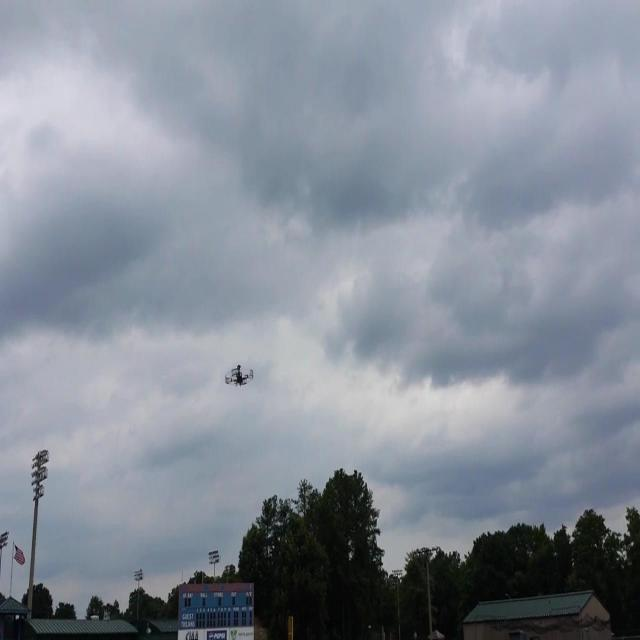UAV: (225, 364, 253, 388)
